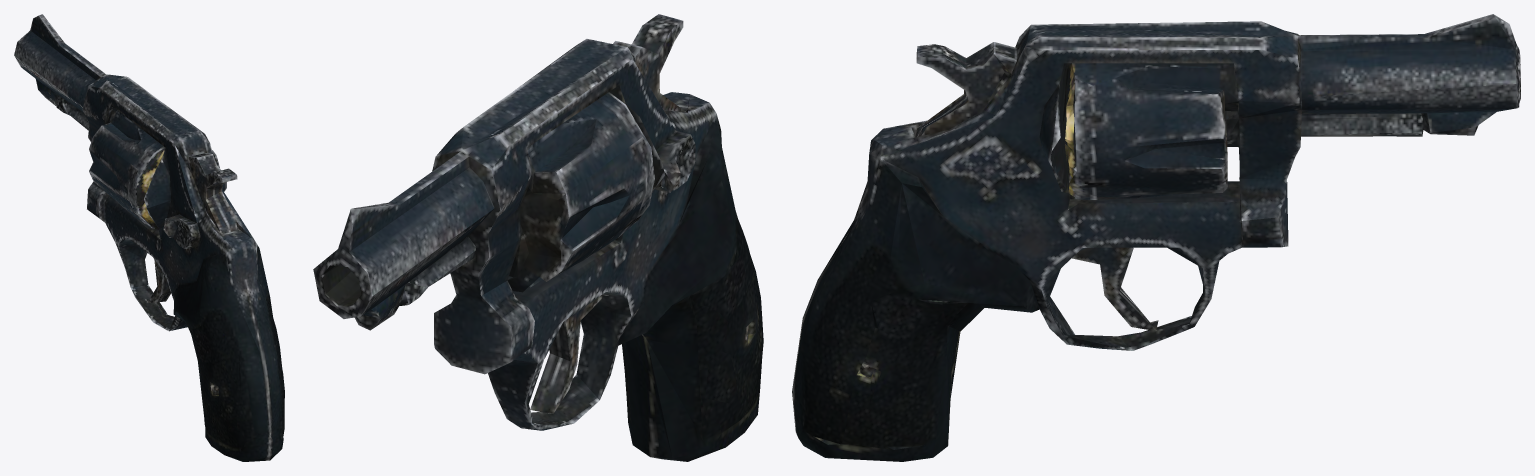
Rendered from snub_tp.glb.
3 renders of one model, left to right at view 1: azimuth 30°, elevation 25°; view 2: azimuth 150°, elevation 25°; view 3: azimuth 270°, elevation 25°, orthographic. The views are drawn at different scales.
Visible parts, largest first — view 1: snub_tp; view 2: snub_tp; view 3: snub_tp.
Boxes of the visible parts, x1,y1,x2,y2 form: snub_tp: [14, 14, 284, 461]; snub_tp: [313, 14, 763, 461]; snub_tp: [792, 14, 1520, 461].
Size of the model in its own units: 0.0347 by 0.109 by 0.1649.
Materials: 1 (1 with a texture image).
